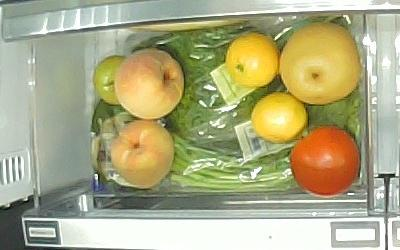peach: (114, 49, 185, 121), (110, 118, 175, 189)
pear: (280, 22, 362, 105)
tangerine: (225, 32, 279, 89), (251, 92, 308, 144)
tomato: (291, 124, 361, 196), (92, 54, 128, 107)
